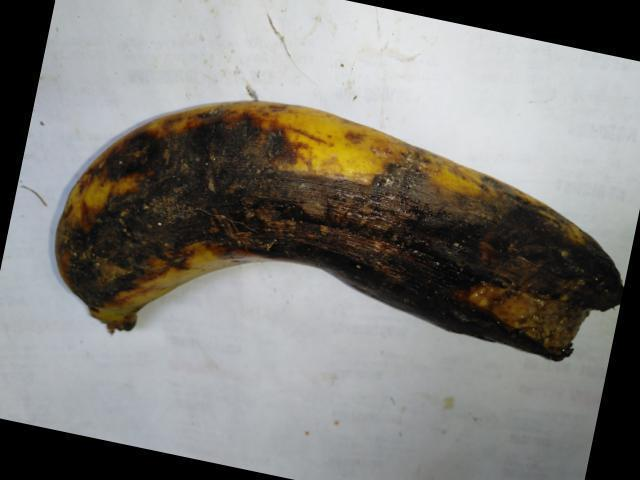rotten: (37, 85, 636, 367)
